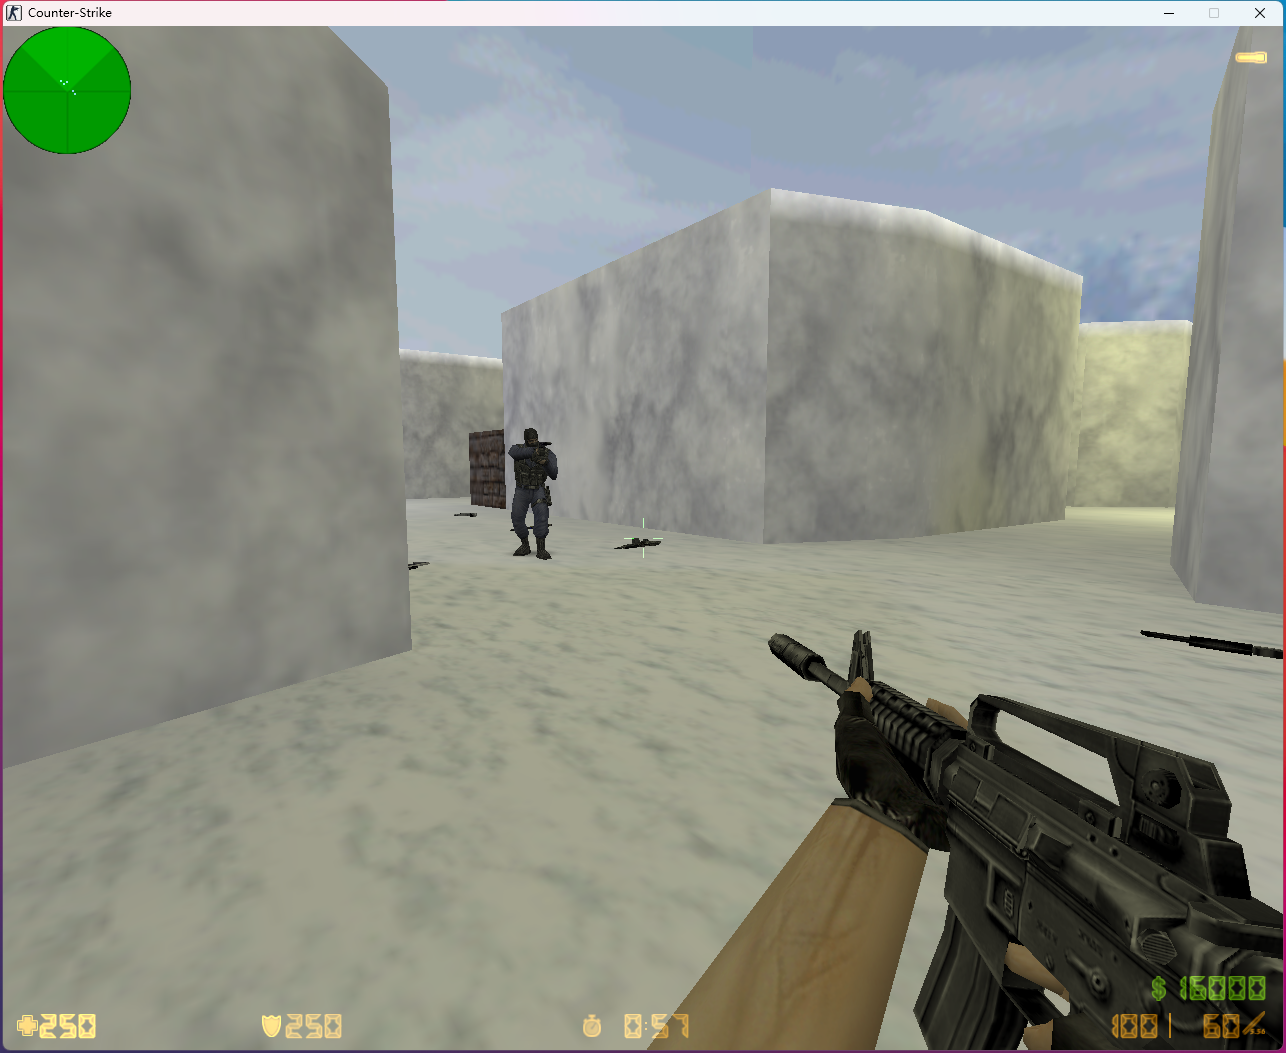C: (507, 428, 555, 560)
weapon: (1132, 623, 1285, 663), (610, 534, 668, 555), (451, 509, 479, 518)
